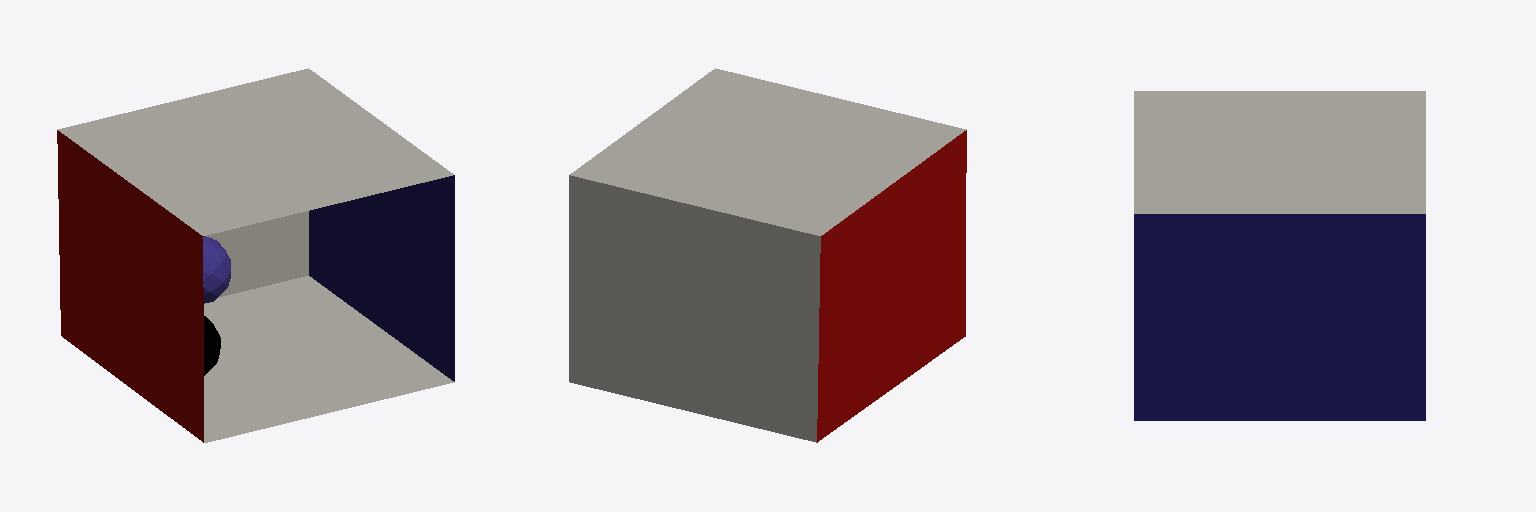
File: CornellBox-Sphere-850.obj
The picture shows the model from 3 angles: view 1: azimuth 30°, elevation 25°; view 2: azimuth 150°, elevation 25°; view 3: azimuth 270°, elevation 25°; orthographic projection.
Visible parts, largest first — view 1: ceiling, leftWall, floor, rightWall, backWall, leftSphere, rightSphere; view 2: backWall, ceiling, leftWall; view 3: rightWall, ceiling.
Part boxes in pixels (x1,y1,x2,y2): ceiling: (58, 68, 453, 235); leftWall: (57, 130, 203, 442); floor: (204, 276, 453, 442); rightWall: (309, 175, 454, 381); backWall: (206, 211, 308, 297); leftSphere: (203, 236, 230, 303); rightSphere: (204, 316, 220, 375); backWall: (569, 175, 820, 442); ceiling: (570, 68, 965, 235); leftWall: (817, 130, 966, 442); rightWall: (1134, 214, 1425, 420); ceiling: (1134, 91, 1425, 213).
Bounding box in the file's own units: 2.02 × 1.59 × 2.03.